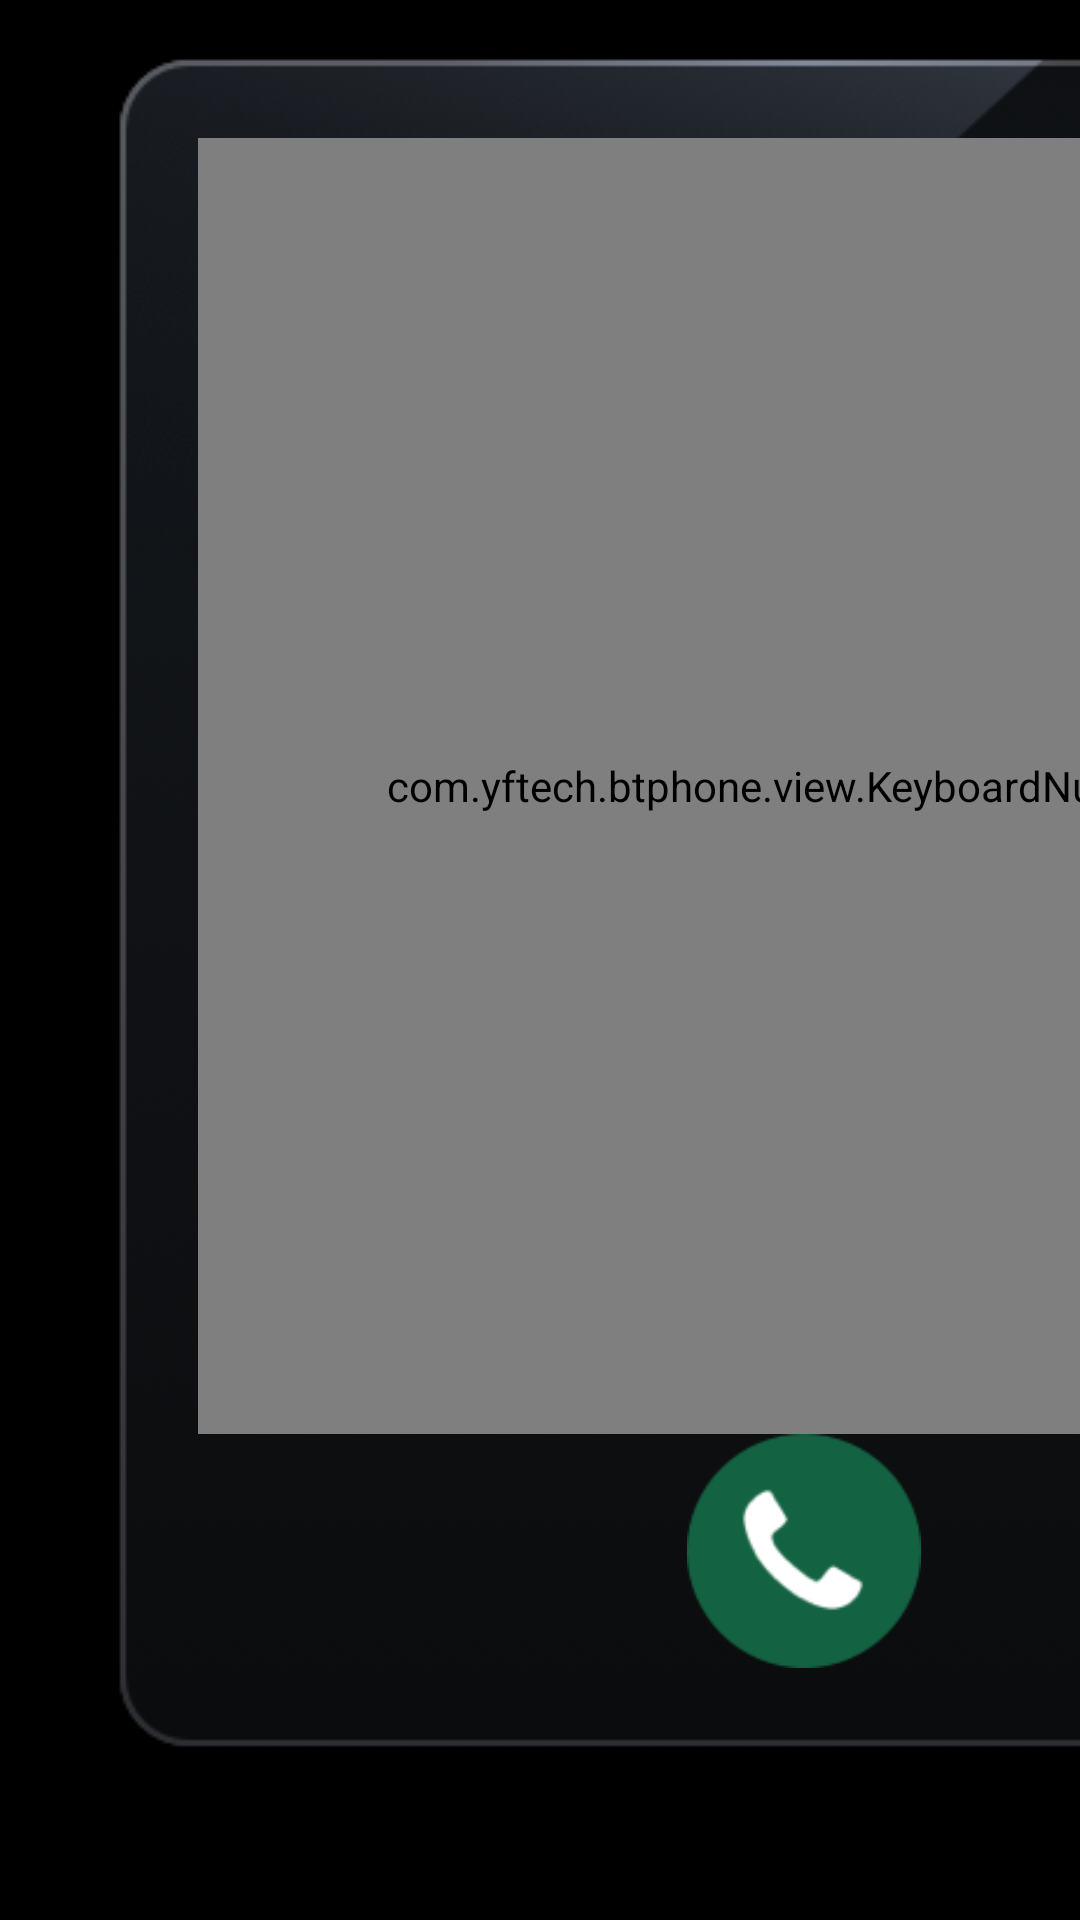

Point at icon controls on the screen. Image size 1080px×1920px, points as point (x, y).
btp accept nor: point (804, 1551)
